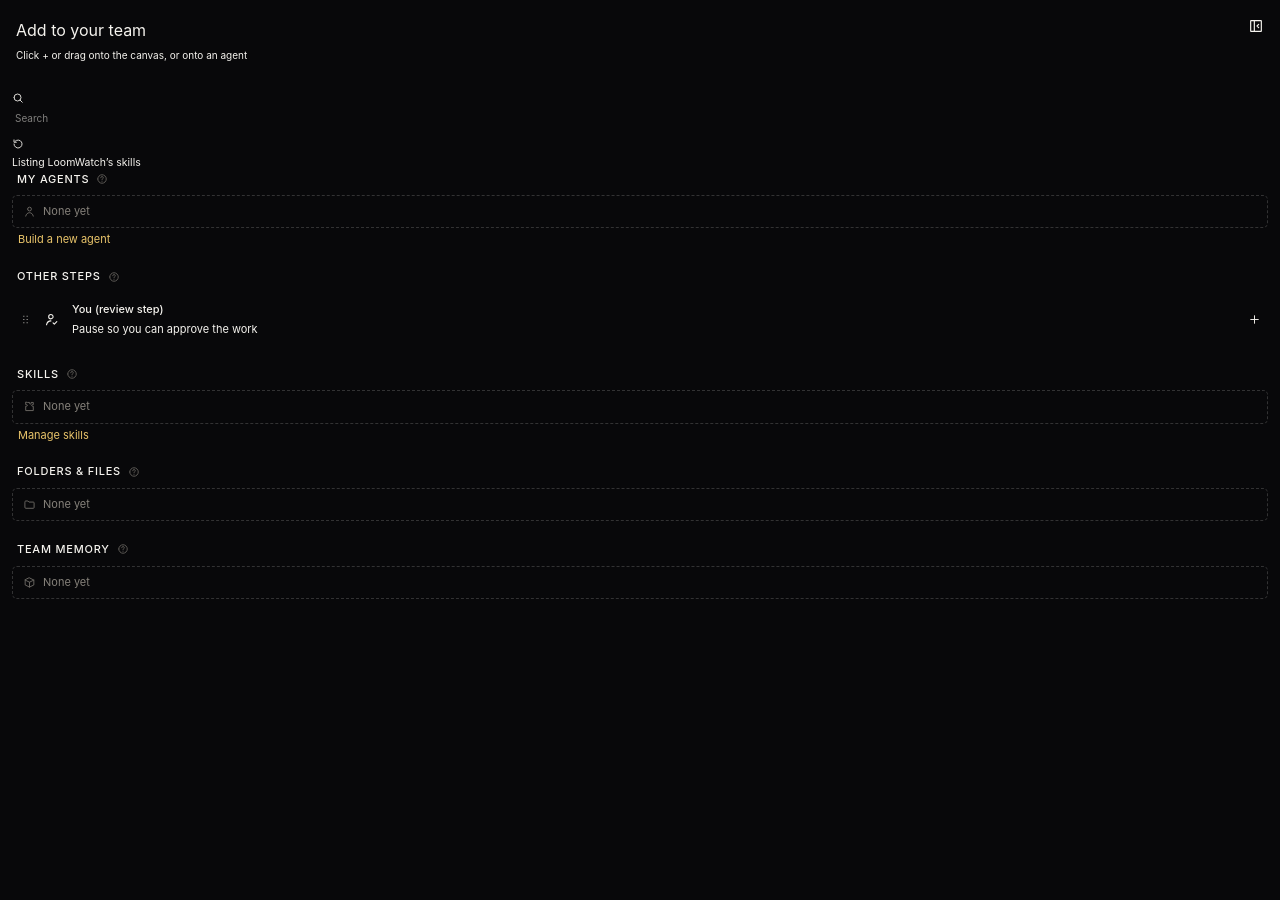
it: ComponentPalette jobs › hires no built-in jobs, and before any agent is saved says where to build one
Expected: the button "Researcher" is not shown
Expected: the text "None yet" below "My agents" is shown, [43,204,90,218]
Click the button named "About My agents" at {"x": 102, "y": 179}, box [93,170,111,188]
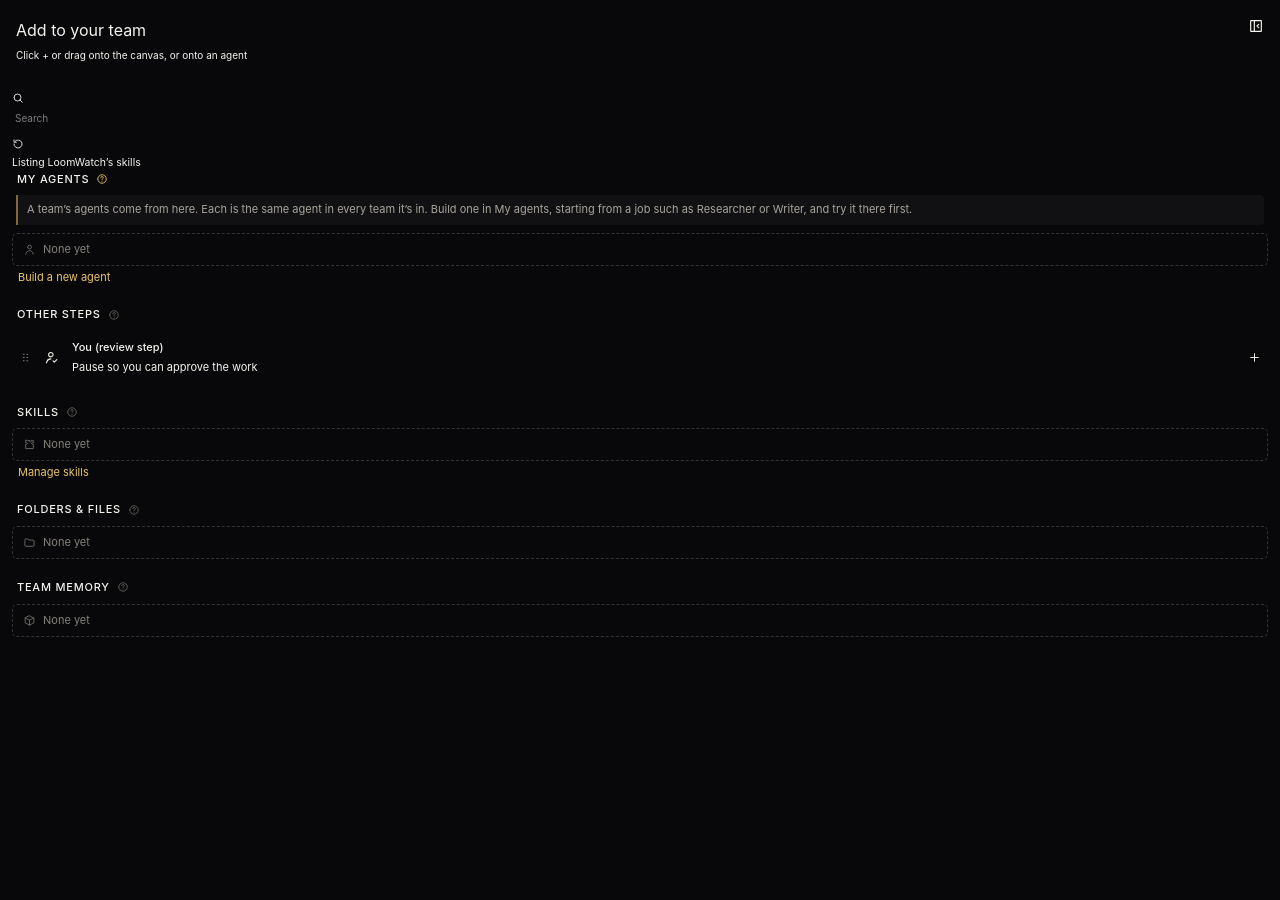
Expected: the button "You (review step) Pause so you can approve the work" is shown, [12,331,1268,384]
Expected: the text "Build one in" is shown, [27,202,494,216]
